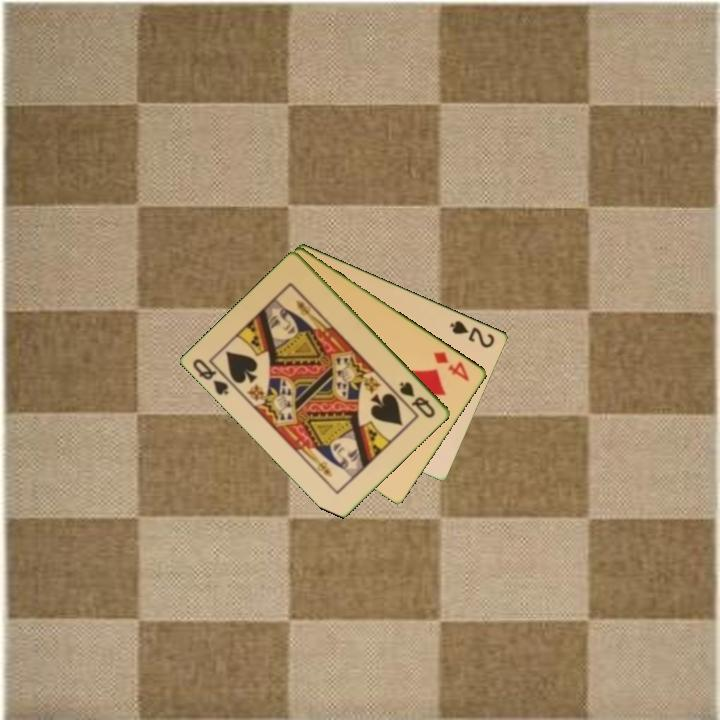2s: (446, 317, 498, 351)
4d: (430, 348, 473, 384)
Qs: (190, 355, 238, 398), (396, 378, 438, 421)
